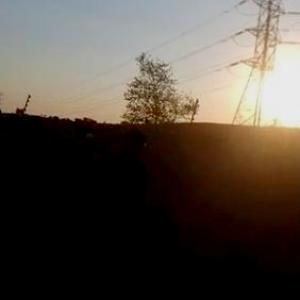follow: (83, 124, 154, 299)
